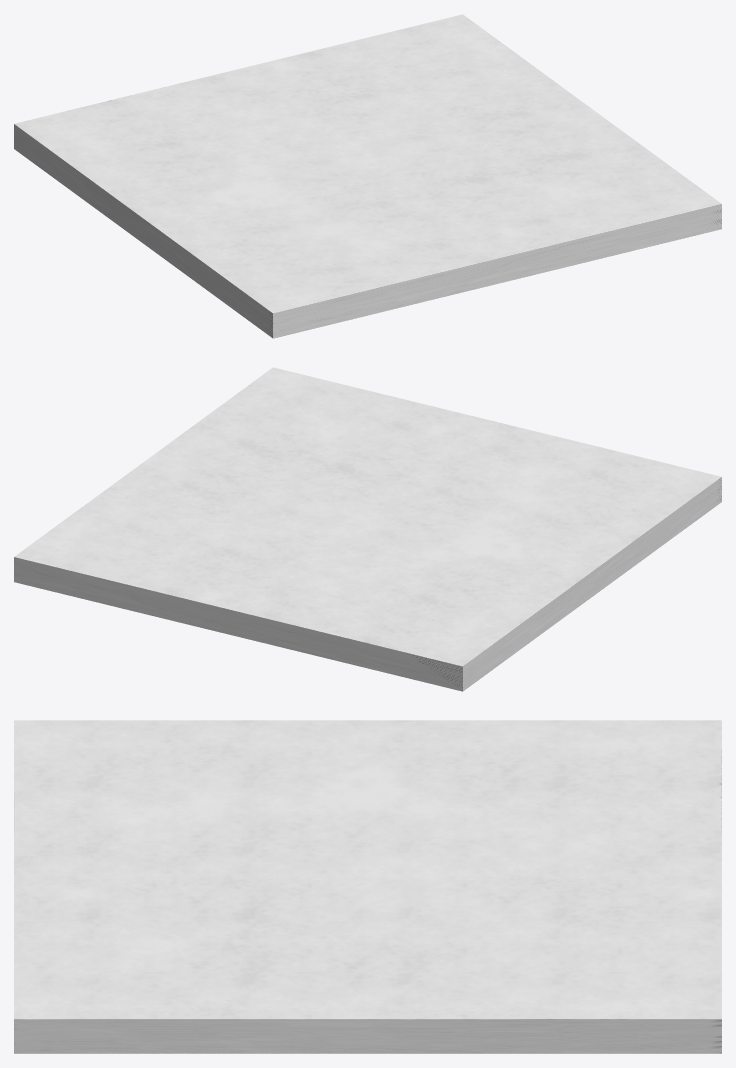
File: roof.fbx
3 renders of one model, top to bottom at view 1: azimuth 30°, elevation 25°; view 2: azimuth 150°, elevation 25°; view 3: azimuth 270°, elevation 25°, orthographic. The views are drawn at different scales.
Parts seen in each view (by area): view 1: roof; view 2: roof; view 3: roof.
Part boxes in pixels (bbox=[...]): roof: bbox=[14, 14, 721, 338]; roof: bbox=[14, 367, 721, 691]; roof: bbox=[14, 720, 721, 1053].
Bounding box in the file's own units: 3722 × 199 × 3722.
1 material, 1 textured.
